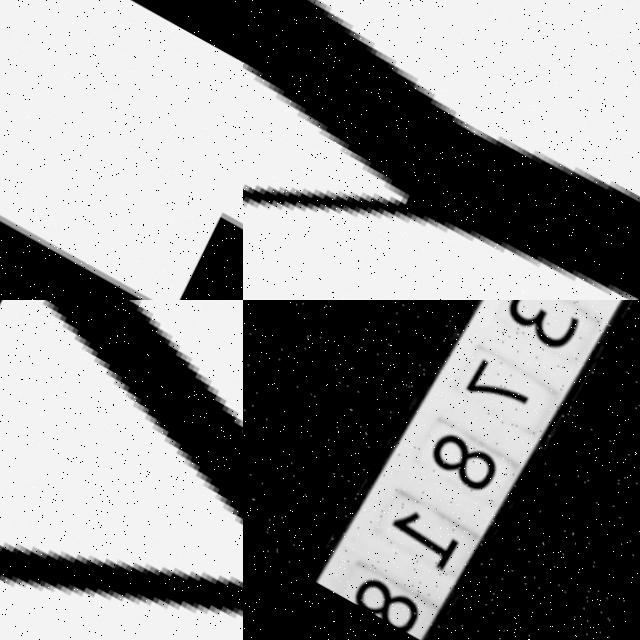1: (0, 0, 243, 300), (352, 477, 475, 586)
3: (466, 300, 603, 371)
7: (431, 330, 552, 437)
8: (388, 398, 521, 514), (321, 545, 436, 640)
V: (0, 300, 243, 640)
Y: (243, 0, 640, 300)
